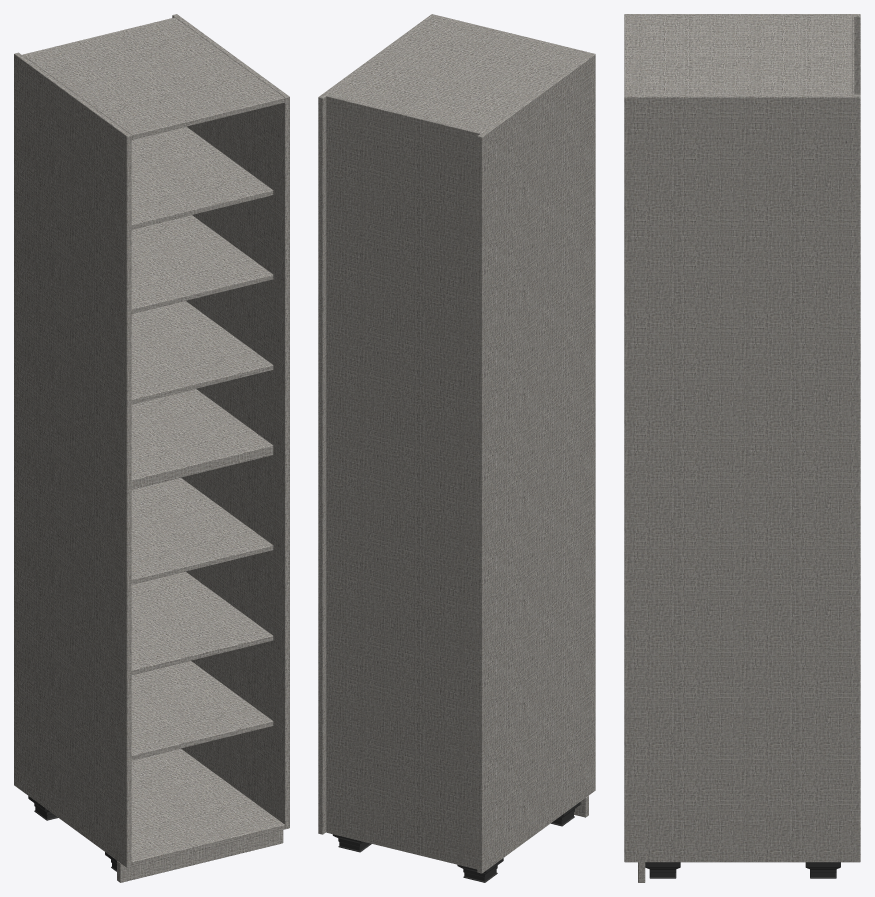
File: cbib12139.gltf
The picture shows the model from 3 angles, left to right: view 1: azimuth 30°, elevation 25°; view 2: azimuth 150°, elevation 25°; view 3: azimuth 270°, elevation 25°; orthographic projection. The views are drawn at different scales.
Parts seen in each view (by area): view 1: CBIB12139; view 2: CBIB12139; view 3: CBIB12139.
Boxes of the visible parts, x1,y1,x2,y2 form: CBIB12139: (14,14,289,882); CBIB12139: (318,14,595,882); CBIB12139: (624,14,860,882).
Bounding box in the file's own units: 0.5 × 2.2 × 0.6.
Materials: 2 (2 with a texture image).
